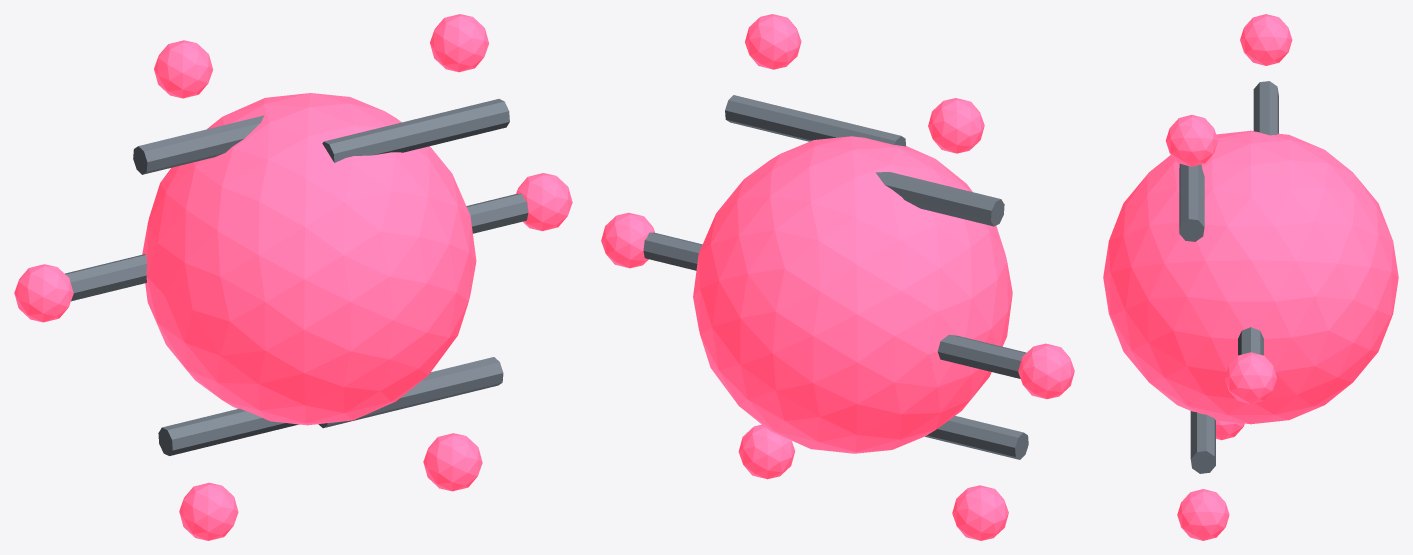
The model's file is virus_01.glb.
3 views of the same model, side by side, from view 1: azimuth 30°, elevation 25°; view 2: azimuth 150°, elevation 25°; view 3: azimuth 270°, elevation 25° (orthographic). The views are drawn at different scales.
Parts seen in each view (by area): view 1: virus_core, world, tendril1, tendril2, tendril4, tendril5, tendril3, tendril0; view 2: virus_core, world, tendril1, tendril2, tendril4, tendril3, tendril0; view 3: virus_core, world, tendril1, tendril5, tendril2, tendril0.
Boxes of the visible parts, x1,y1,x2,y2 form: virus_core: (142, 93, 476, 425); world: (14, 14, 572, 540); tendril1: (322, 99, 509, 162); tendril2: (133, 115, 264, 174); tendril4: (158, 408, 298, 455); tendril5: (318, 357, 503, 428); tendril3: (65, 254, 146, 301); tendril0: (466, 193, 528, 233); virus_core: (693, 136, 1012, 453); world: (601, 14, 1074, 540); tendril1: (725, 95, 905, 146); tendril2: (875, 172, 1004, 226); tendril4: (925, 416, 1028, 459); tendril3: (937, 334, 1026, 378); tendril0: (643, 232, 702, 270); virus_core: (1103, 130, 1398, 424); world: (1165, 14, 1292, 540); tendril1: (1179, 164, 1204, 241); tendril5: (1190, 411, 1215, 473); tendril2: (1253, 81, 1278, 135); tendril0: (1238, 327, 1263, 355).
Bounding box in the file's own units: 2.22 × 1.95 × 1.24.
